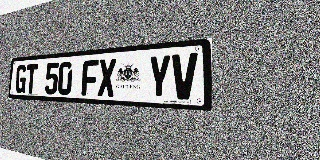0: (57, 61, 73, 95)
5: (45, 62, 59, 95)
F: (81, 59, 99, 96)
G: (15, 65, 27, 93)
T: (25, 64, 38, 94)
V: (171, 53, 198, 100)
X: (97, 58, 116, 97)
Y: (147, 54, 171, 99)
